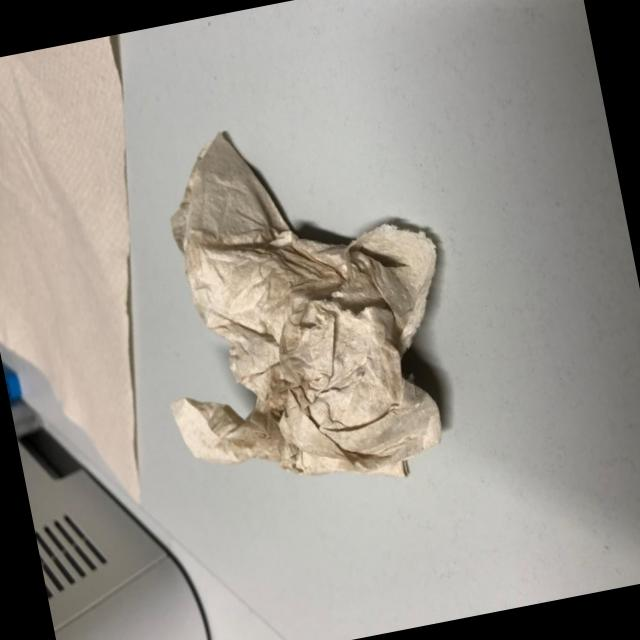organic waste: (112, 79, 490, 538)
